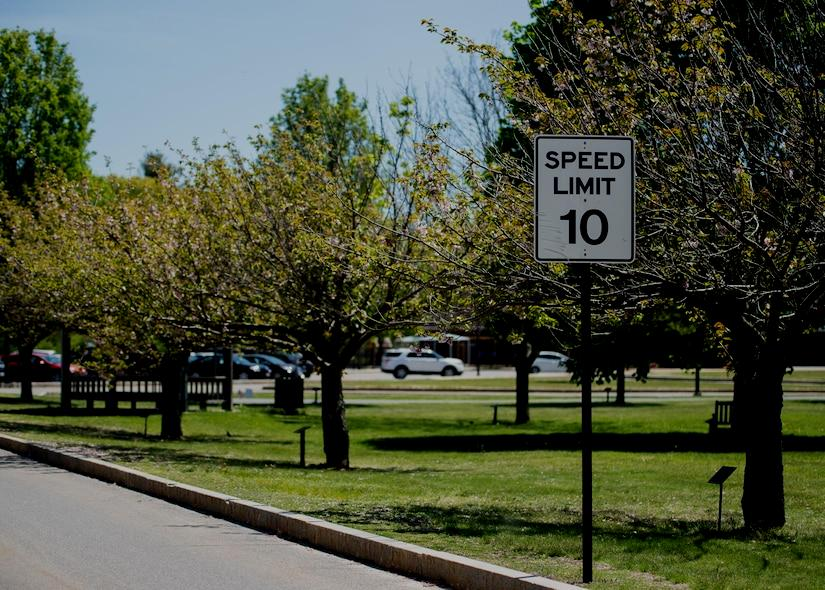10 MPH: (542, 141, 629, 256)
